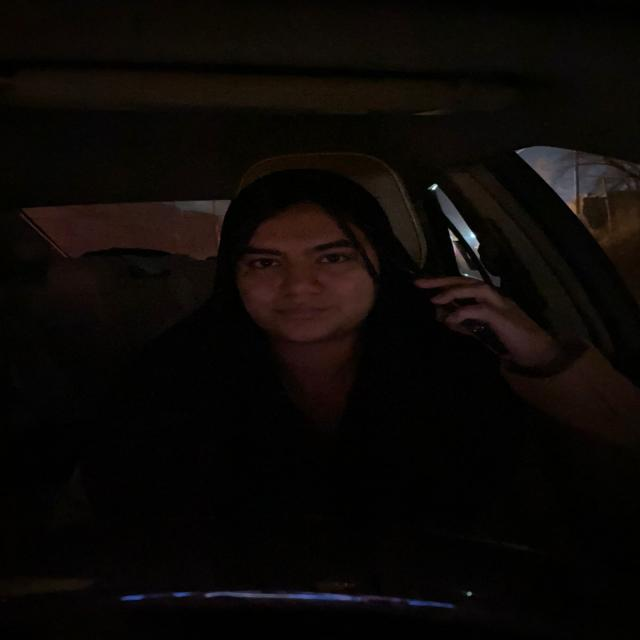mobile: (409, 272, 520, 369)
person: (222, 176, 400, 367)
